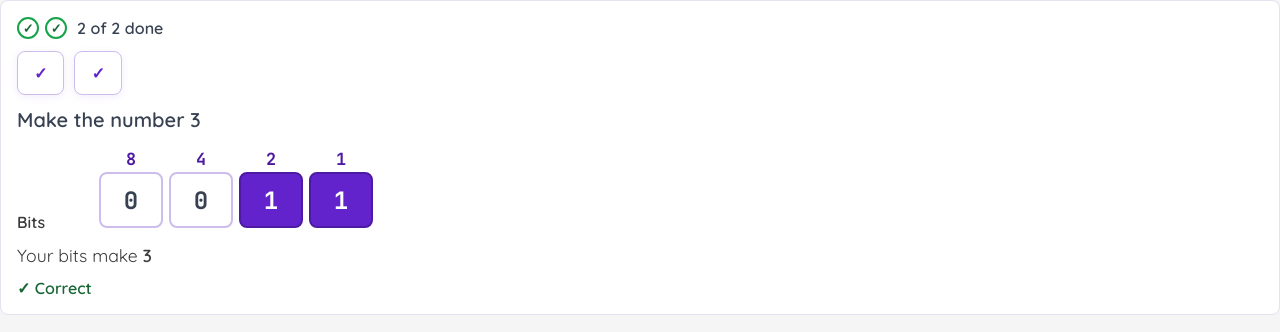
Binary UI › is read-only for a teacher view, and the tutor can pick any question
Expected: the 1st switch labelled "0" is disabled, x1=99 y1=172 x2=163 y2=228
Expected: the 2nd switch labelled "0" is disabled, x1=169 y1=172 x2=233 y2=228
Tutor-only picker: look at question 1 after the student has moved on.
Click the button named "Item 1, done" at (41, 73), box x1=17 y1=51 x2=64 y2=95
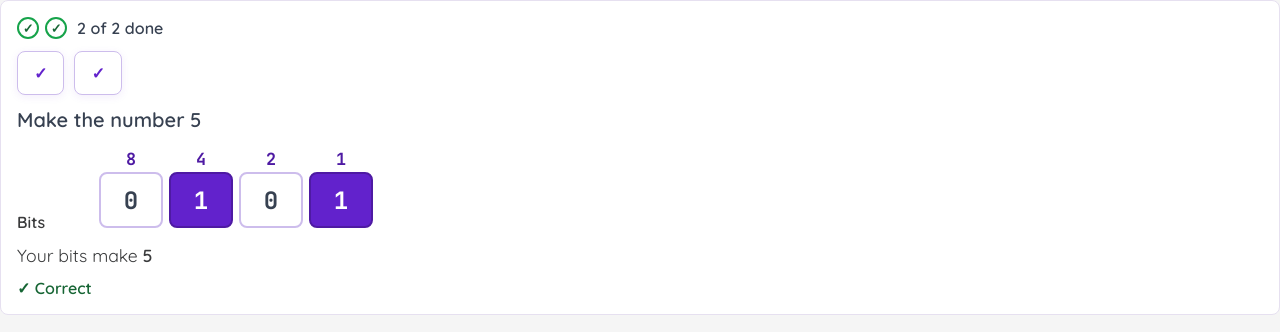
Expected: the text "Make the number 5" is shown, x1=17 y1=107 x2=201 y2=132
